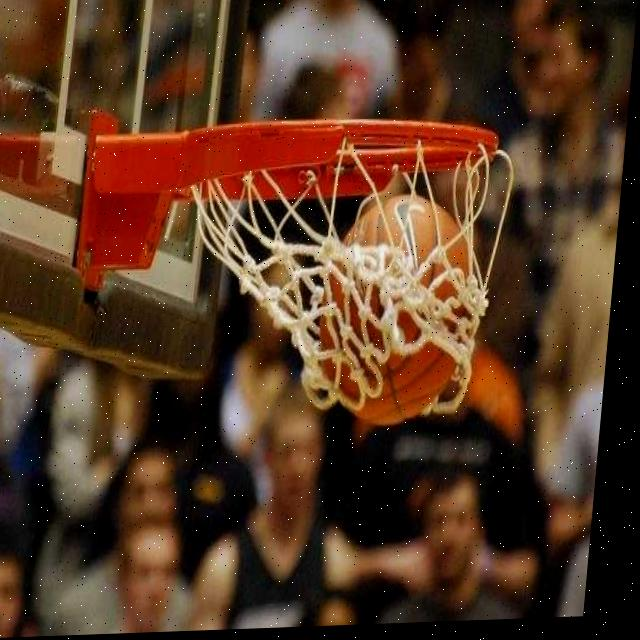basketball: (309, 182, 486, 436)
hoop: (156, 112, 527, 446), (157, 111, 530, 432)
